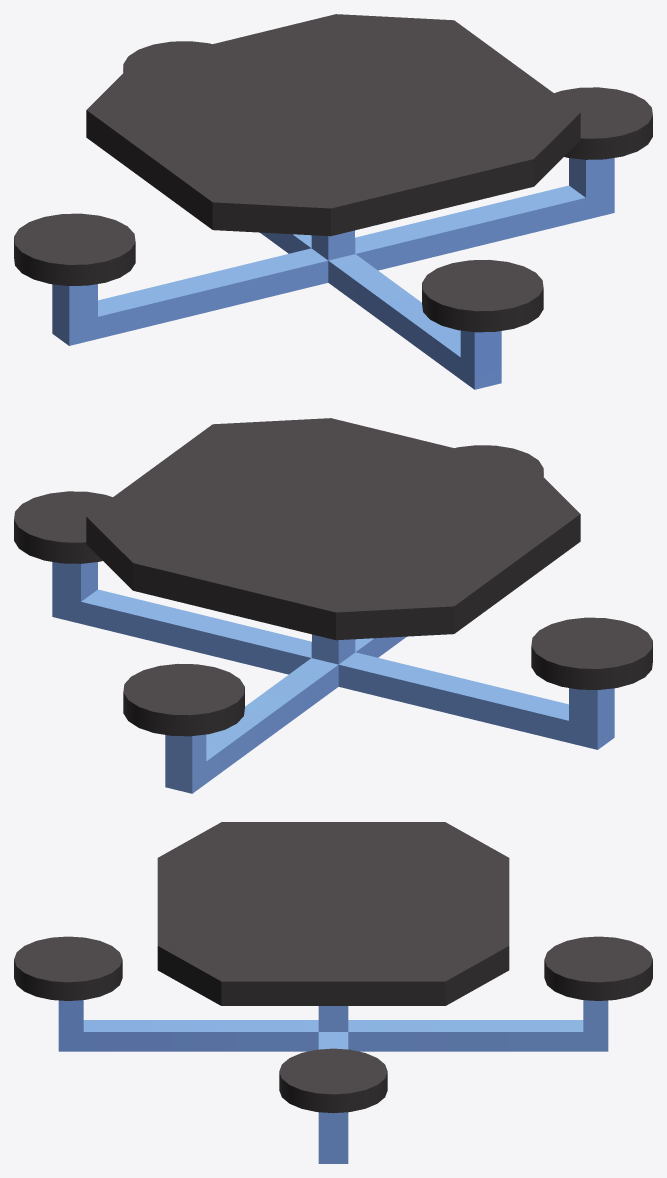
Rendered from table break.fbx.
The picture shows the model from 3 angles, top to bottom: view 1: azimuth 30°, elevation 25°; view 2: azimuth 150°, elevation 25°; view 3: azimuth 270°, elevation 25°; orthographic projection. The views are drawn at different scales.
Parts seen in each view (by area): view 1: polySurface27, polySurface25, polySurface28, polySurface36, polySurface35, polySurface20, polySurface22, polySurface33, polySurface21, polySurface37, polySurface23; view 2: polySurface25, polySurface28, polySurface27, polySurface36, polySurface35, polySurface20, polySurface23, polySurface33, polySurface21, polySurface31, polySurface22; view 3: polySurface28, polySurface27, polySurface25, polySurface36, polySurface21, polySurface31, polySurface23, polySurface22, polySurface37, polySurface35.
Part boxes in pixels (x1,y1,x2,y2): polySurface27: (279,72,580,232); polySurface25: (86,45,343,236); polySurface28: (207,14,524,131); polySurface36: (192,221,440,331); polySurface35: (424,158,614,255); polySurface20: (14,213,135,285); polySurface22: (422,260,543,332); polySurface33: (52,277,223,345); polySurface21: (554,87,652,159); polySurface37: (395,301,501,389); polySurface23: (123,41,211,72); polySurface25: (259,465,580,640); polySurface28: (86,465,402,621); polySurface27: (157,418,523,524); polySurface36: (225,625,474,737); polySurface35: (52,562,243,658); polySurface20: (531,617,652,689); polySurface23: (123,664,244,736); polySurface33: (443,681,614,749); polySurface21: (14,491,112,563); polySurface31: (165,693,268,793); polySurface22: (455,445,543,476); polySurface28: (320,875,509,1005); polySurface27: (157,862,319,1005); polySurface25: (157,822,509,889); polySurface36: (195,1006,478,1051); polySurface21: (279,1048,387,1113); polySurface31: (427,1000,608,1051); polySurface23: (544,936,652,1000); polySurface22: (14,936,122,1000); polySurface37: (58,1000,207,1051); polySurface35: (318,1112,348,1163).
Size of the model in its own units: 289 by 71.79 by 289.
2 materials, 2 textured.
